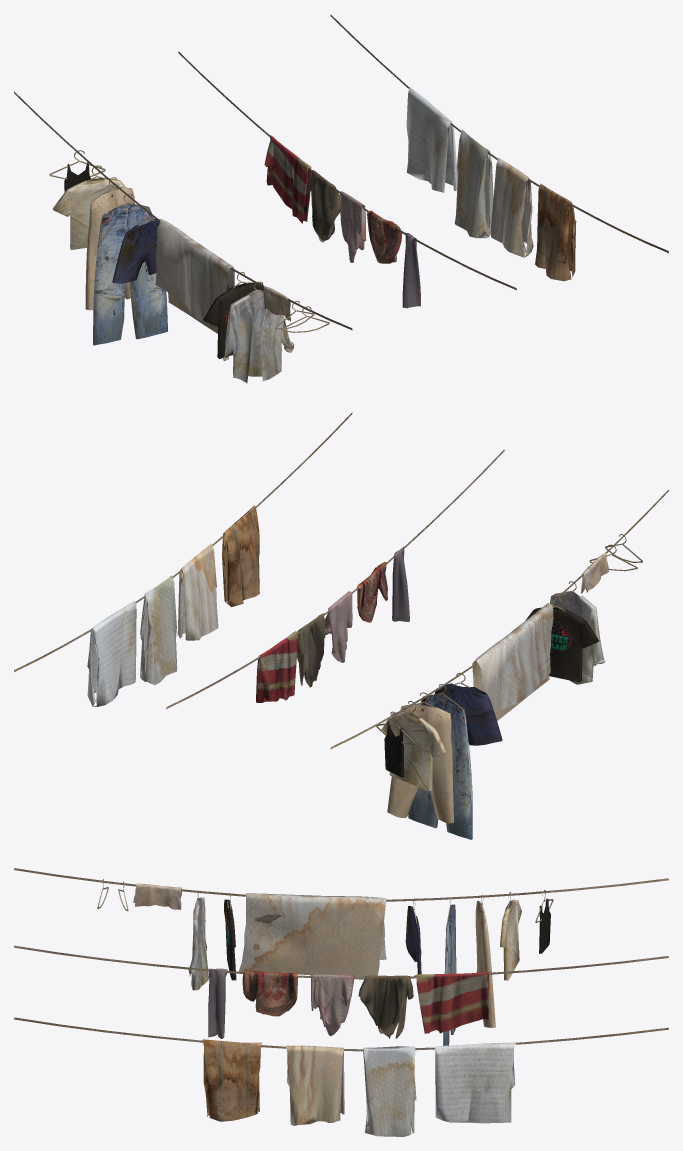
File: Laundry Clothesline.fbx
The picture shows the model from 3 angles, top to bottom: view 1: azimuth 30°, elevation 25°; view 2: azimuth 150°, elevation 25°; view 3: azimuth 270°, elevation 25°; orthographic projection. The views are drawn at different scales.
Parts seen in each view (by area): view 1: BézierCurve; view 2: BézierCurve; view 3: BézierCurve.
Boxes of the visible parts, x1,y1,x2,y2 form: BézierCurve: (14, 14, 668, 383); BézierCurve: (14, 412, 668, 839); BézierCurve: (14, 868, 668, 1136).
Bounding box in the file's own units: 2169 × 992 × 3446.
5 materials, 5 textured.
